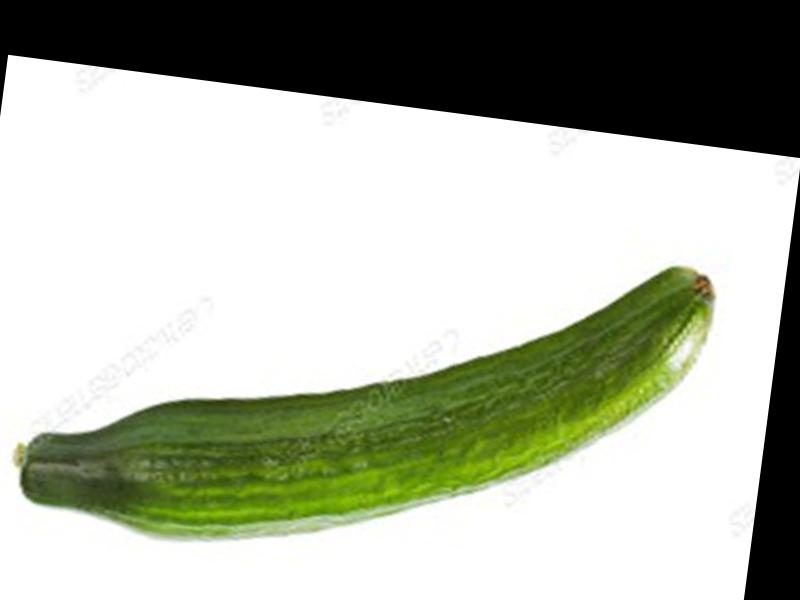Cucumber: (4, 182, 718, 600)
